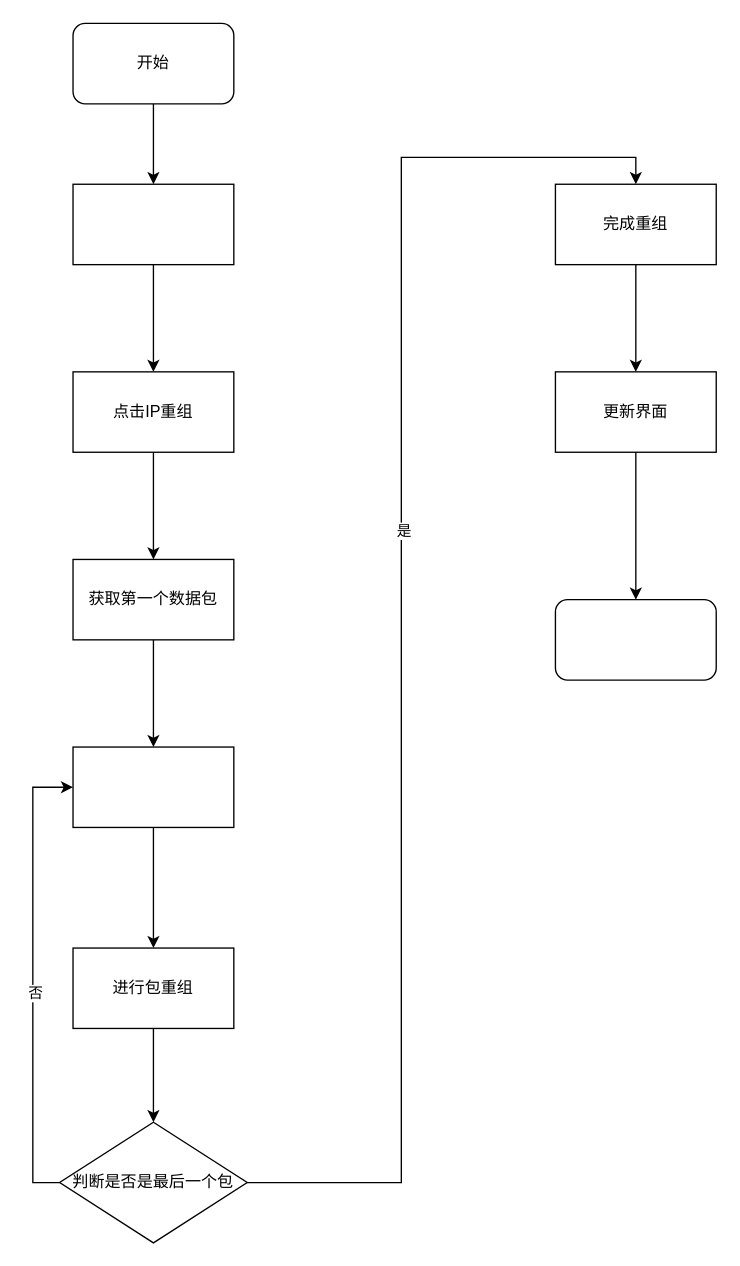
The diagram is 740 pixels wide and 1266 high, and some of its shapes have lost their labels. Here are the shapes that lost their labels. From the top down, the centre of each, then its label:
At point (153, 224): "选择包".
At point (635, 639): "结束".
At point (153, 786): "获取下一个数据包".
